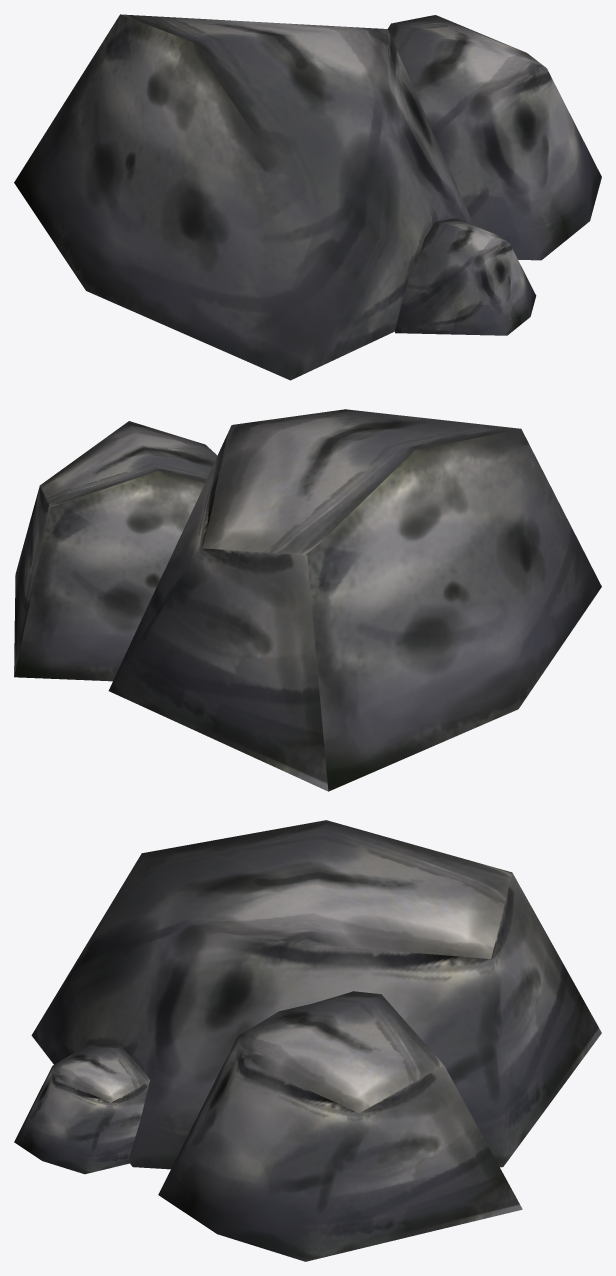
The model's file is Test_En1_Rock2.FBX.
3 views of the same model, one above another, from view 1: azimuth 30°, elevation 25°; view 2: azimuth 150°, elevation 25°; view 3: azimuth 270°, elevation 25° (orthographic). The views are drawn at different scales.
Visible parts, largest first — view 1: Test_En1_Tree2; view 2: Test_En1_Tree2; view 3: Test_En1_Tree2.
Part boxes in pixels (bbox=[...]): Test_En1_Tree2: bbox=[14, 14, 601, 380]; Test_En1_Tree2: bbox=[14, 409, 601, 791]; Test_En1_Tree2: bbox=[14, 820, 601, 1261].
Bounding box in the file's own units: 41.66 × 17.84 × 40.14.
